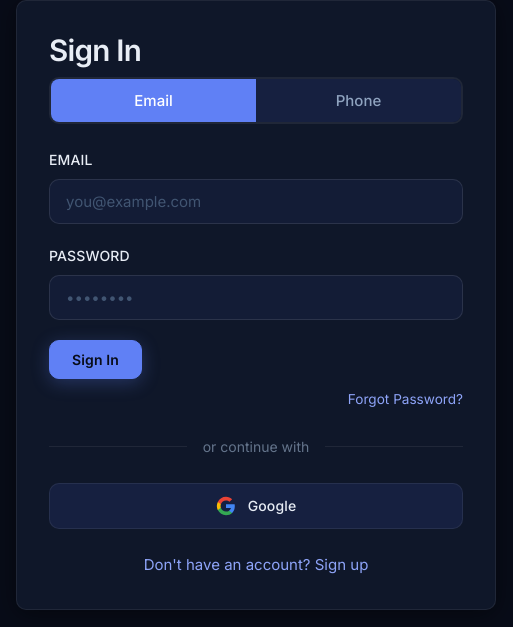
Test: Login Page › Phone Auth › shows error for invalid phone number
The width and height of the screenshot is (513, 627).
Click the button "Phone" at (358, 100), box [256, 78, 461, 122]
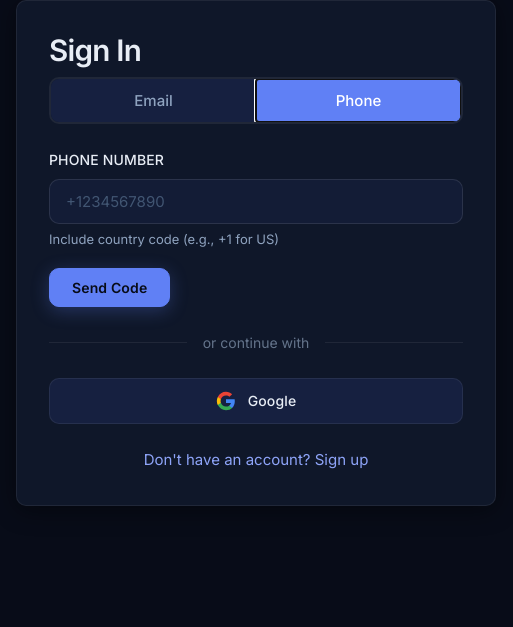
Type "abc" into the field labelled "Phone Number" at (256, 201), box [49, 179, 463, 224]
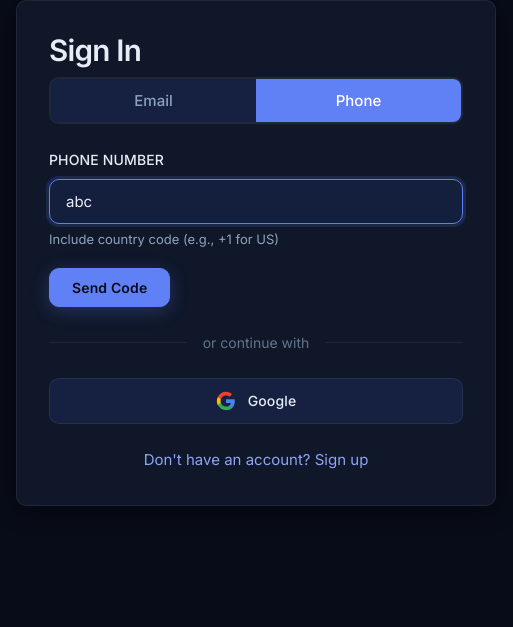
Click the button "Send Code" at (110, 287), box [49, 268, 170, 307]
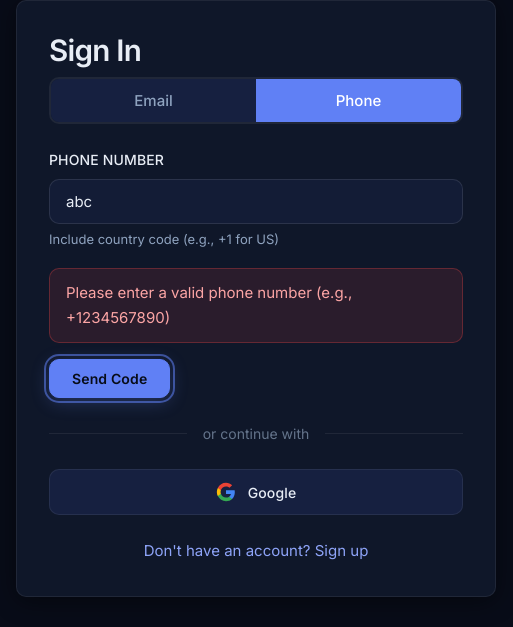
Now the message shows "valid phone number", box [66, 283, 352, 327]
